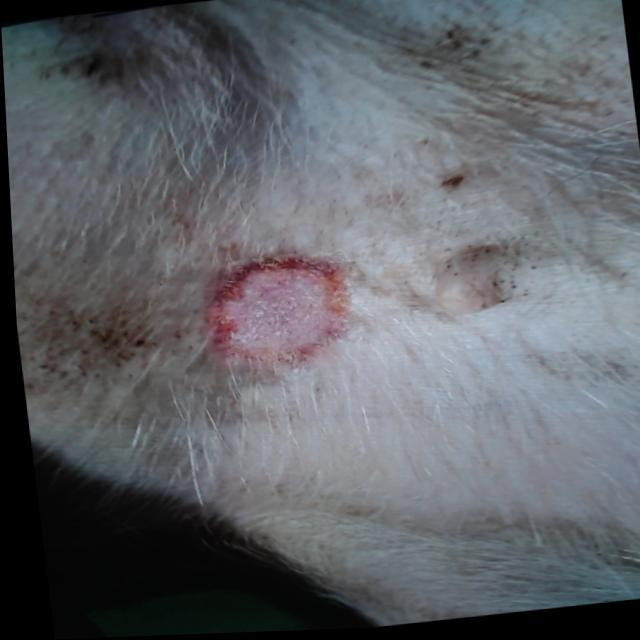ringworm: (172, 232, 392, 386)
